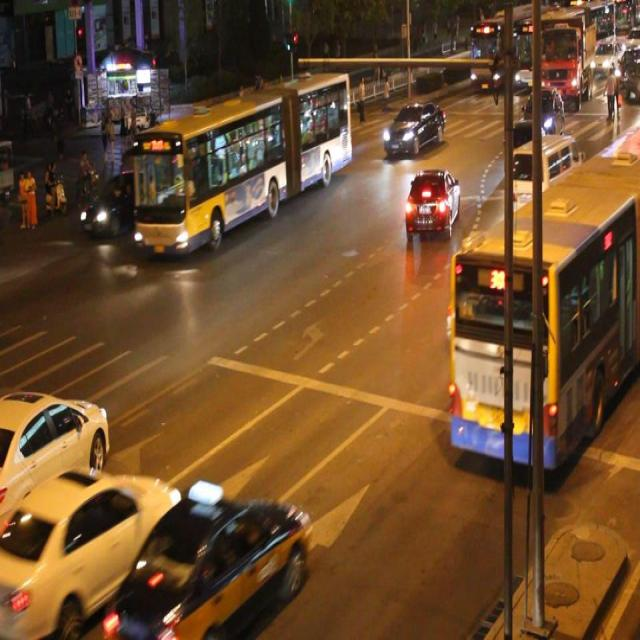car: (1, 468, 179, 640), (108, 492, 309, 640), (1, 387, 110, 536), (80, 168, 149, 238), (404, 164, 460, 239), (381, 101, 445, 160), (503, 120, 544, 186)
truck: (506, 136, 581, 216)
van: (448, 147, 640, 467), (133, 79, 350, 250)
